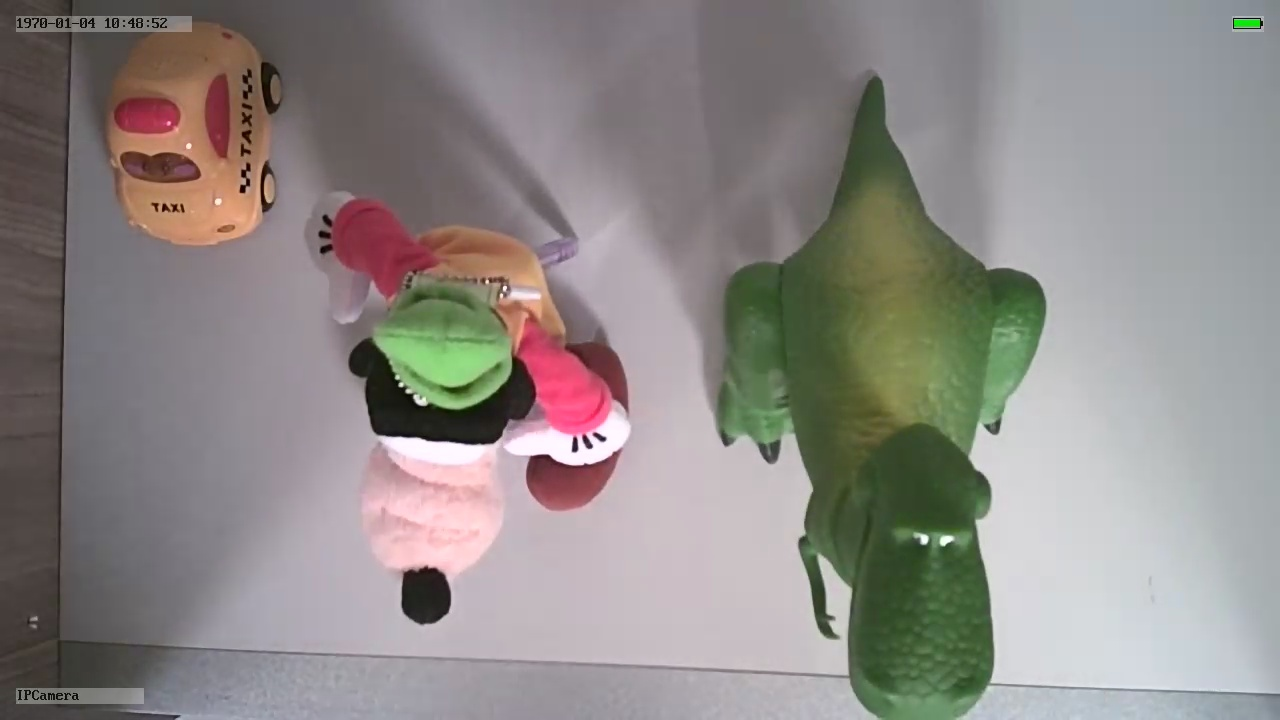car: (106, 16, 281, 248)
goofy: (301, 189, 639, 635)
rex: (718, 173, 1047, 720)
